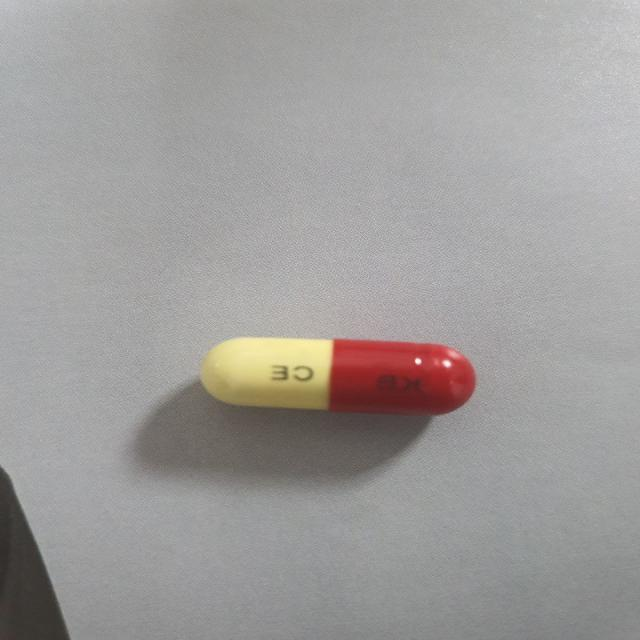pill: (192, 326, 475, 416)
